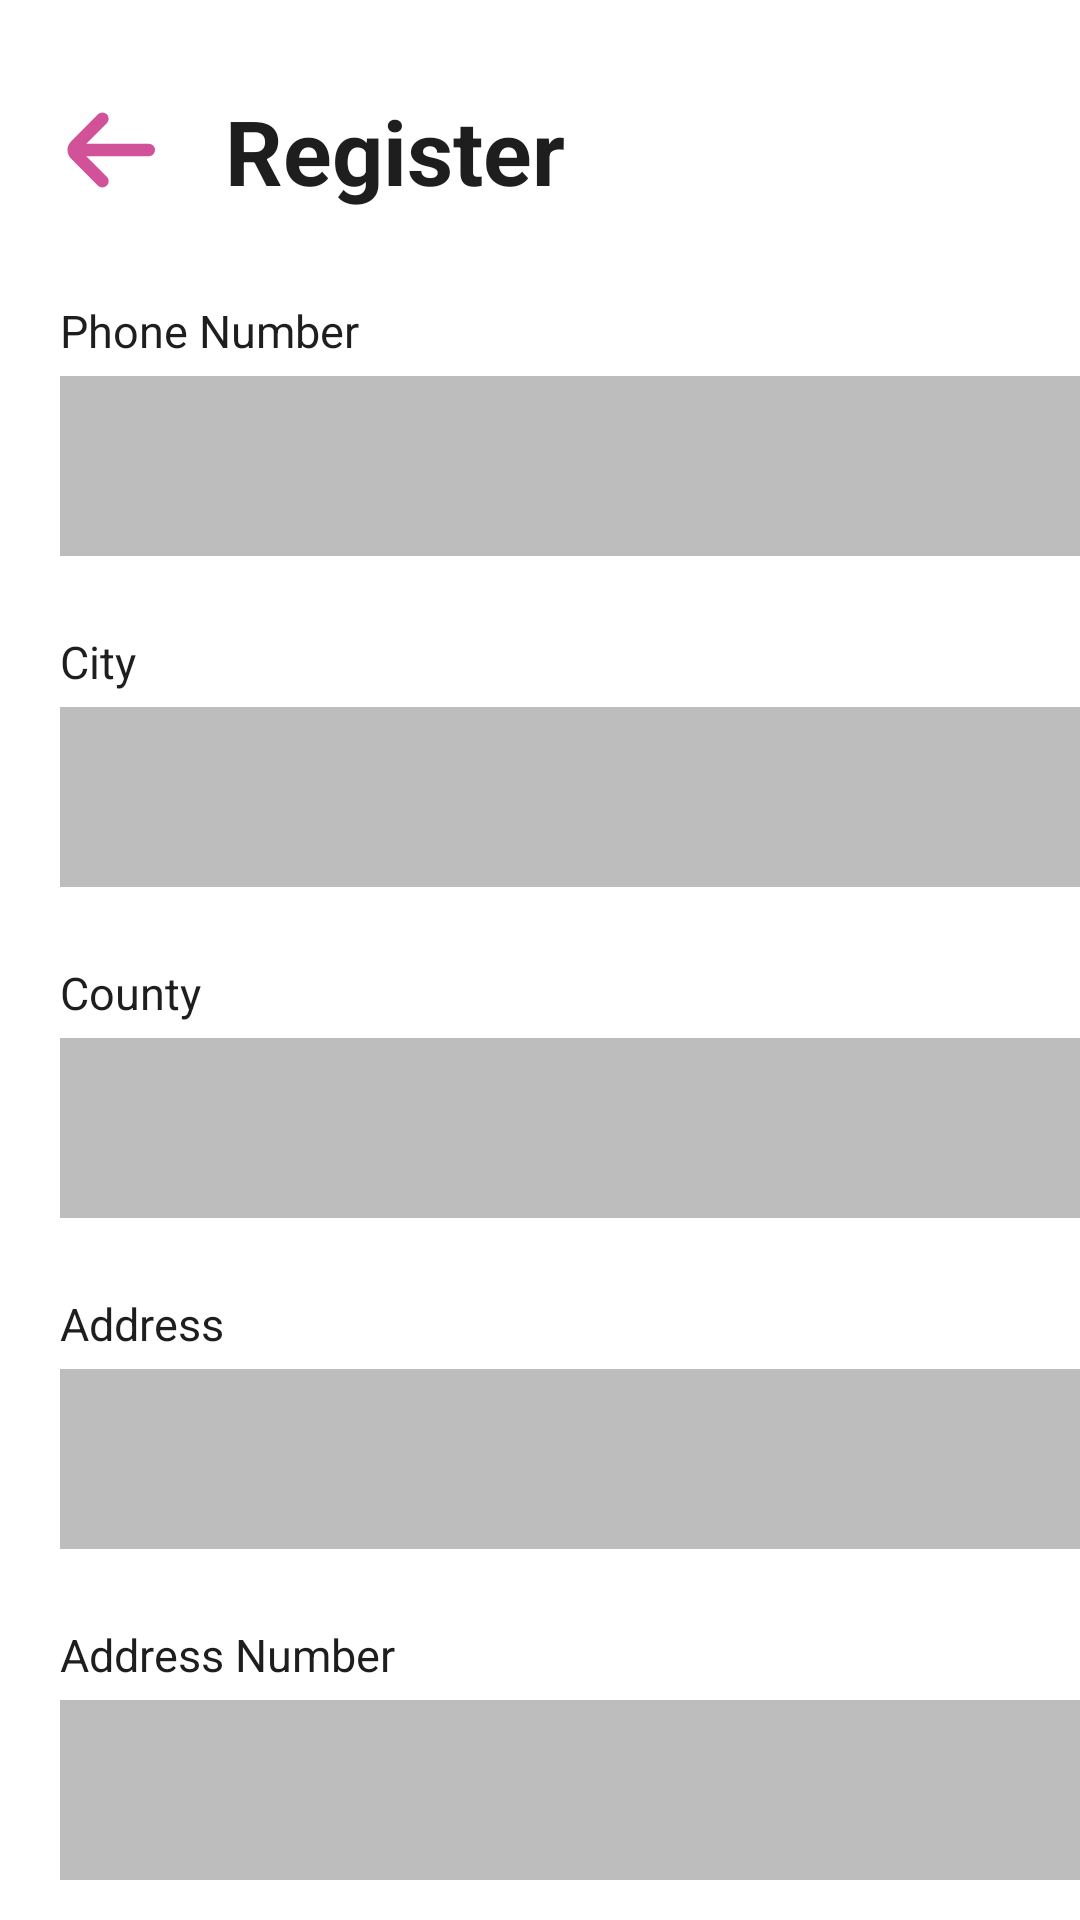

Where icons sit on this 1080*1920 app screen, as Rect(x1, y1, x2, y2):
Back button: Rect(67, 112, 155, 188)
